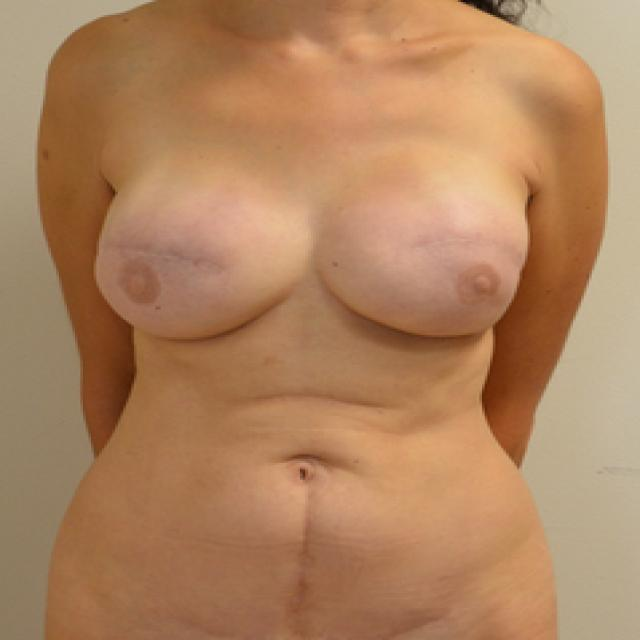Seno herido: (89, 166, 310, 351), (322, 164, 543, 349)
